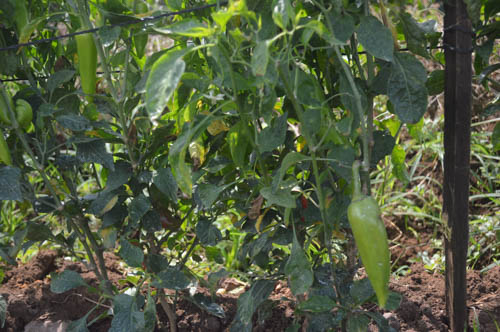ChiliPepper: (351, 199, 390, 302), (74, 33, 98, 97)
